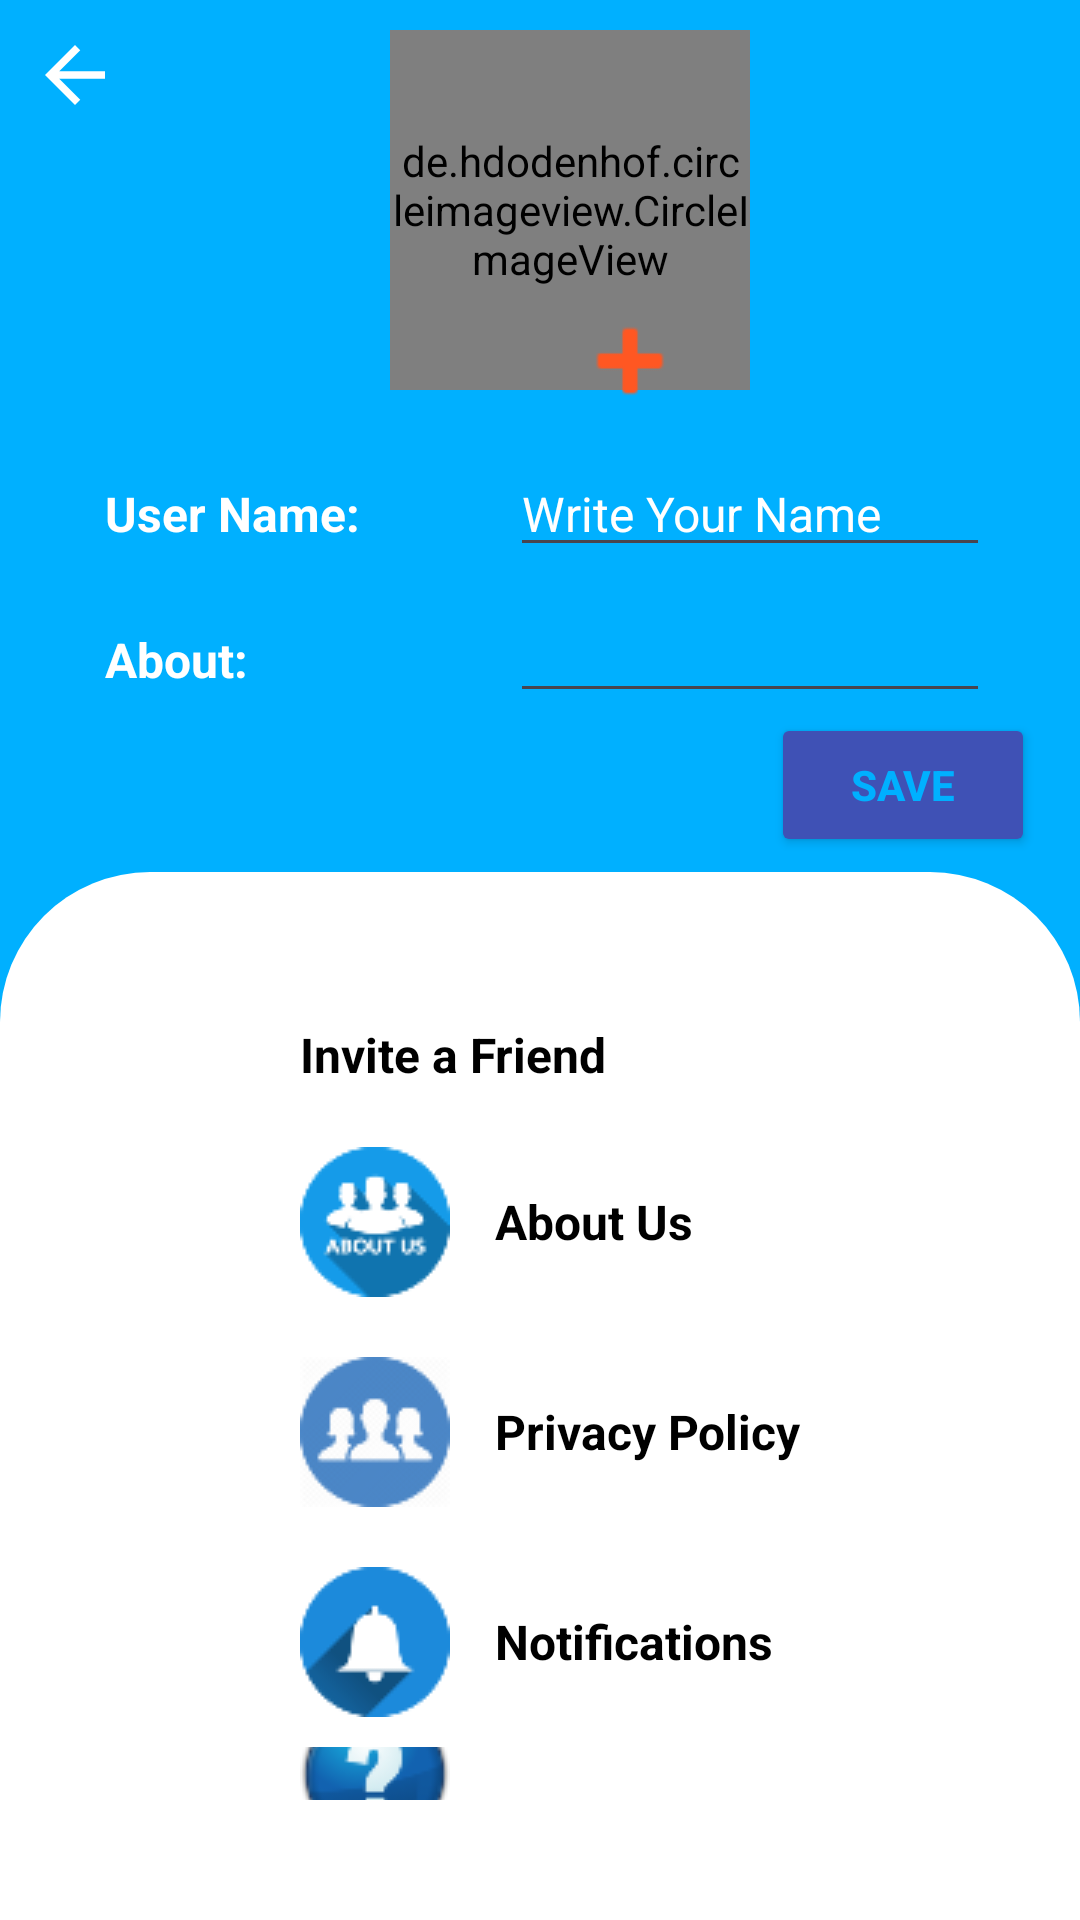

Icons on this 1080x1920 Android screen, each with its box as Rect(x1, y1, x2, y2):
add: Rect(570, 327, 690, 421)
